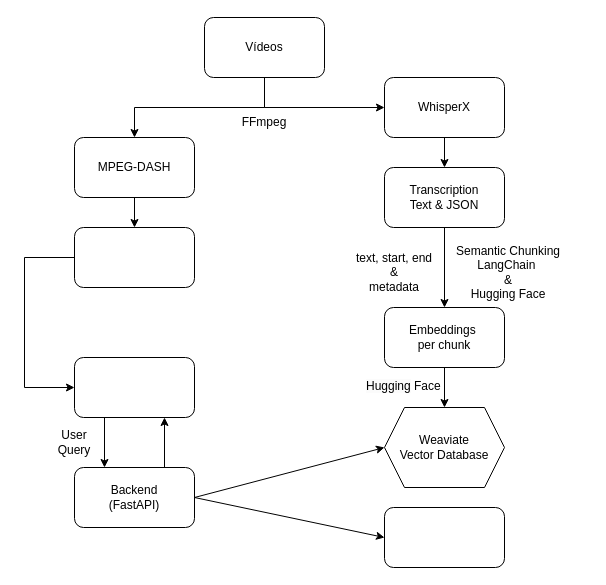
Some shapes in this 606 by 585 pixel diagram are drawn without their labels. The box of each missing label's shape, as (x1, y1, x2, y2) in pixels:
Frontend (React + Vite): (74, 356, 194, 418)
Ollama: (384, 506, 504, 568)
Segments & MPD: (74, 226, 194, 288)
